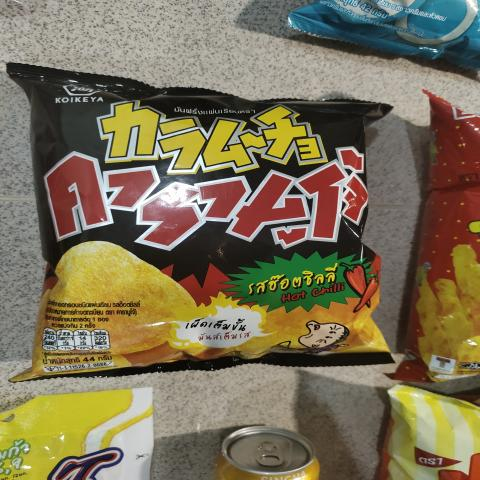karamujo: (40, 97, 358, 382)
